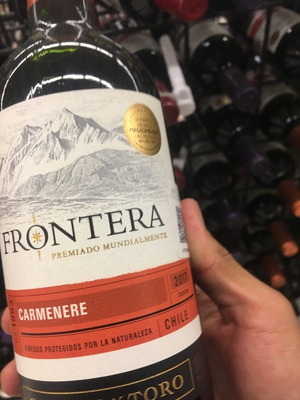frontera carmenere: (1, 21, 190, 384)
